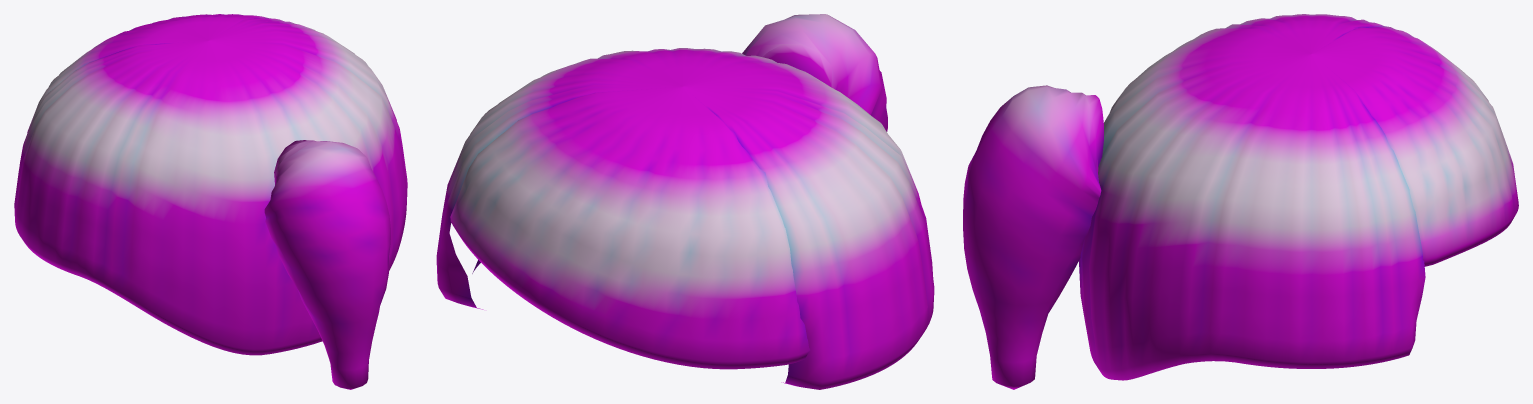
File: ponytail.glb
3 renders of one model, left to right at view 1: azimuth 30°, elevation 25°; view 2: azimuth 150°, elevation 25°; view 3: azimuth 270°, elevation 25°, orthographic. The views are drawn at different scales.
Parts seen in each view (by area): view 1: ponytail; view 2: ponytail; view 3: ponytail.
Boxes of the visible parts, <box> form: ponytail: <box>14,14,407,389</box>; ponytail: <box>436,14,934,389</box>; ponytail: <box>963,14,1518,389</box>.
Size of the model in its own units: 0.9085 by 0.654 by 1.02.
